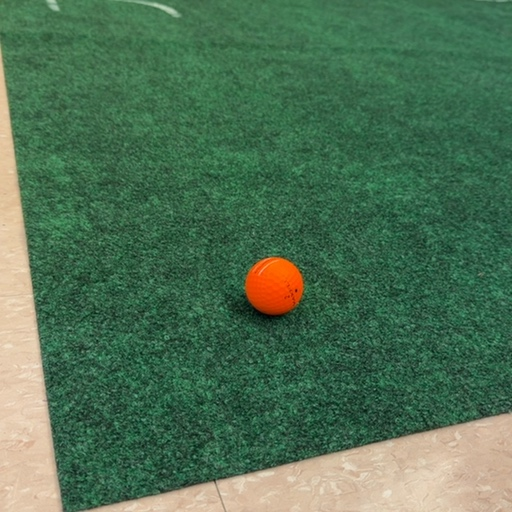Ball: (245, 257, 304, 315)
